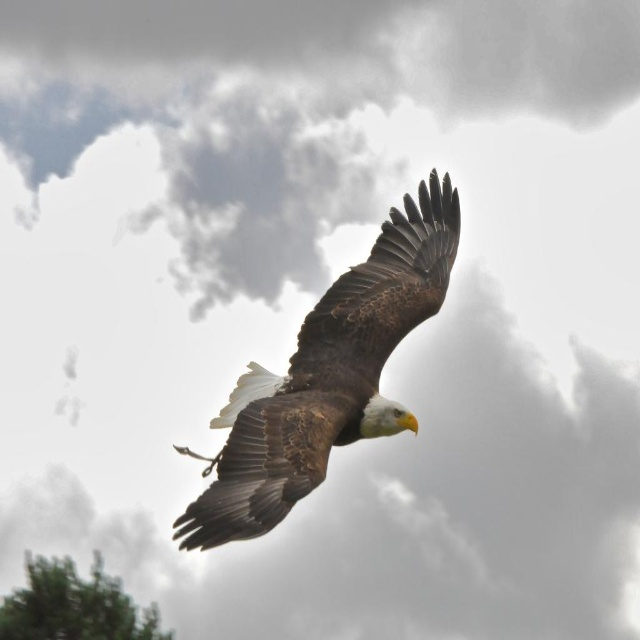Eagle: (166, 161, 464, 552)
